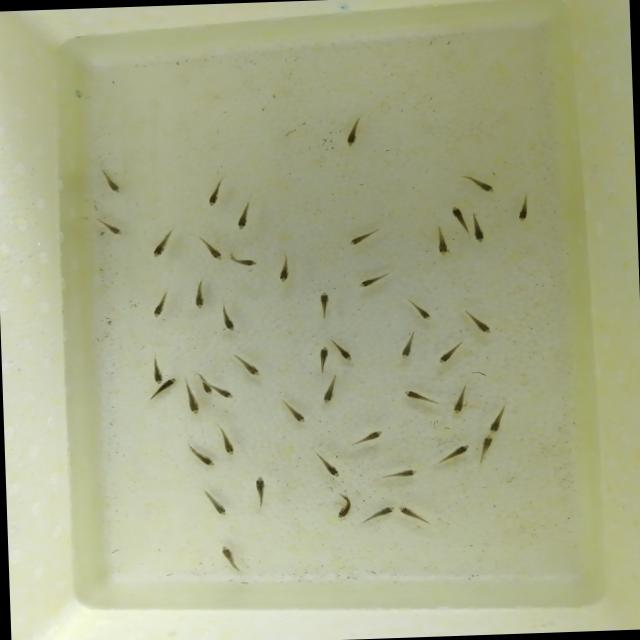fingerling: (374, 462, 426, 486), (213, 542, 245, 576), (461, 308, 496, 338), (278, 396, 310, 427), (314, 375, 345, 407), (314, 449, 344, 482), (193, 231, 224, 262), (182, 441, 215, 470), (350, 426, 388, 451), (247, 472, 271, 511), (230, 195, 256, 231), (202, 488, 230, 520), (432, 339, 465, 366), (332, 489, 357, 524), (434, 442, 472, 465), (460, 172, 498, 195), (482, 404, 510, 435), (98, 166, 124, 199), (342, 227, 384, 247), (428, 226, 452, 260), (340, 116, 364, 150), (405, 386, 442, 408), (446, 387, 472, 418), (405, 298, 436, 324), (95, 216, 128, 240), (202, 176, 226, 209), (146, 292, 173, 321), (273, 250, 296, 284), (513, 190, 536, 224), (214, 425, 239, 456), (148, 231, 172, 263), (308, 346, 337, 372), (234, 352, 263, 378), (398, 502, 430, 524), (472, 435, 500, 460), (450, 202, 471, 235), (354, 271, 390, 290), (362, 505, 396, 525), (314, 290, 334, 322), (470, 211, 488, 246), (398, 330, 417, 362), (219, 304, 236, 336), (229, 250, 257, 269), (334, 340, 356, 364), (191, 280, 208, 311), (184, 388, 202, 416), (148, 356, 164, 386), (215, 384, 237, 401), (163, 374, 180, 394), (200, 382, 214, 398)
